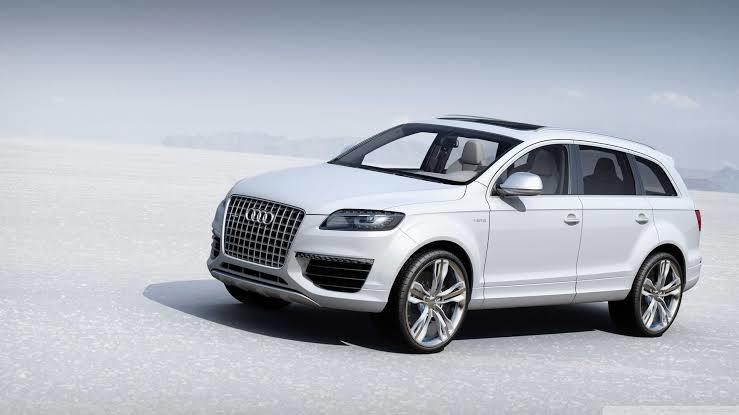audi: (189, 111, 708, 360)
